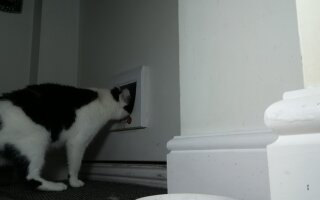bad: (1, 73, 135, 190)
